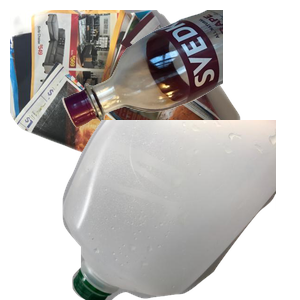glass: (60, 10, 300, 130)
paper: (10, 10, 250, 190)
plastic: (60, 120, 300, 300)
trash: (109, 175, 279, 300)
